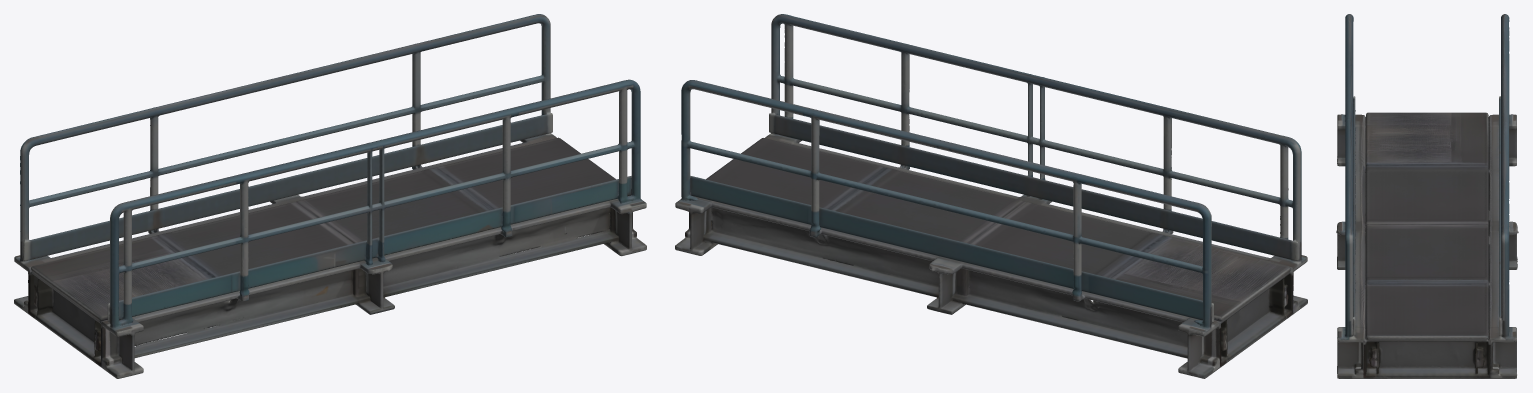
The model's file is industrial_catwalk_bridge_module.glb.
The picture shows the model from 3 angles, left to right: view 1: azimuth 30°, elevation 25°; view 2: azimuth 150°, elevation 25°; view 3: azimuth 270°, elevation 25°; orthographic projection. The views are drawn at different scales.
Visible parts, largest first — view 1: tripo_node_6c5a35ce-a043-4ef8-9121-c738b52c50ac; view 2: tripo_node_6c5a35ce-a043-4ef8-9121-c738b52c50ac; view 3: tripo_node_6c5a35ce-a043-4ef8-9121-c738b52c50ac.
Part boxes in pixels (x1,y1,x2,y2): tripo_node_6c5a35ce-a043-4ef8-9121-c738b52c50ac: (14, 14, 646, 378); tripo_node_6c5a35ce-a043-4ef8-9121-c738b52c50ac: (675, 14, 1307, 378); tripo_node_6c5a35ce-a043-4ef8-9121-c738b52c50ac: (1336, 14, 1518, 378).
Bounding box in the file's own units: 1 × 0.3027 × 0.3432.
Materials: 1 (1 with a texture image).
